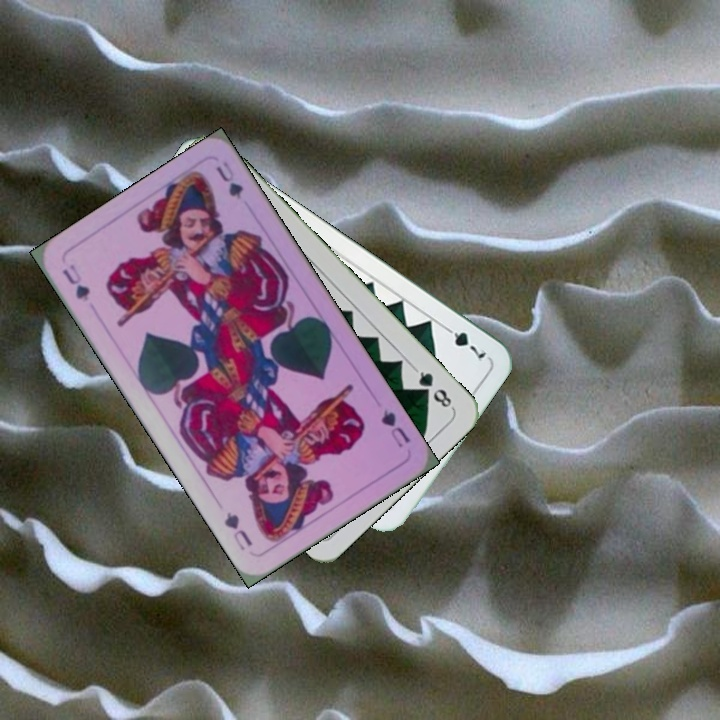G7: (438, 321, 489, 364)
G8: (410, 365, 456, 412)
GU: (377, 405, 413, 451), (58, 260, 93, 305)
